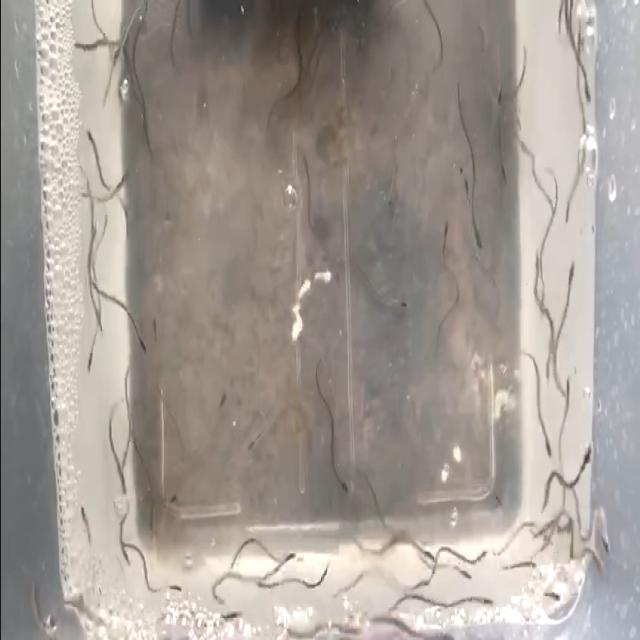inactive_glass_eel: (164, 472, 186, 508), (542, 337, 556, 391), (496, 148, 510, 200), (578, 68, 592, 114), (590, 544, 606, 584), (564, 262, 580, 302), (438, 214, 455, 250), (540, 423, 552, 471), (542, 580, 560, 612), (90, 296, 105, 334), (469, 213, 482, 256), (150, 308, 162, 354), (136, 322, 150, 358), (116, 541, 134, 569), (77, 502, 90, 540), (472, 550, 492, 574), (334, 467, 350, 497), (578, 438, 592, 472), (596, 528, 610, 562), (317, 556, 331, 590), (564, 190, 577, 226), (497, 66, 509, 105), (458, 161, 470, 199), (418, 542, 438, 564), (471, 596, 492, 616), (214, 386, 228, 416), (280, 548, 299, 570), (166, 574, 182, 600), (84, 345, 96, 379), (452, 565, 472, 585), (490, 488, 506, 513), (221, 604, 241, 624), (110, 42, 128, 64), (84, 121, 99, 147), (562, 372, 570, 420), (145, 502, 153, 542), (394, 290, 408, 312), (244, 440, 258, 452)
